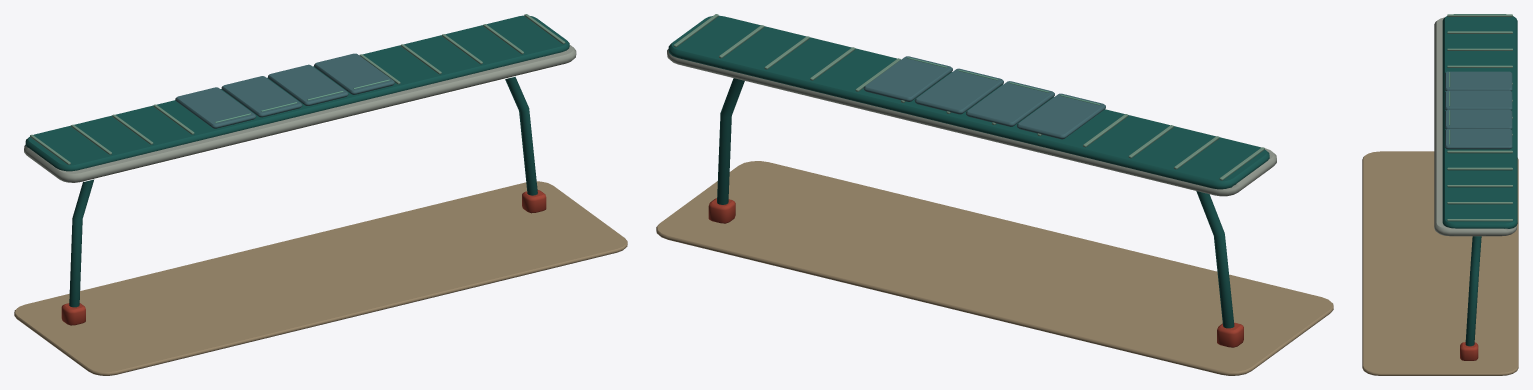
File: truck_park.glb
3 renders of one model, left to right at view 1: azimuth 30°, elevation 25°; view 2: azimuth 150°, elevation 25°; view 3: azimuth 270°, elevation 25°, orthographic. The views are drawn at different scales.
Parts seen in each view (by area): view 1: TruckPark; view 2: TruckPark; view 3: TruckPark.
Boxes of the visible parts, bbox=[...] form: TruckPark: bbox=[14, 14, 627, 375]; TruckPark: bbox=[656, 14, 1333, 375]; TruckPark: bbox=[1362, 14, 1518, 375].
Bounding box in the file's own units: 14.47 × 4.61 × 4.3.
